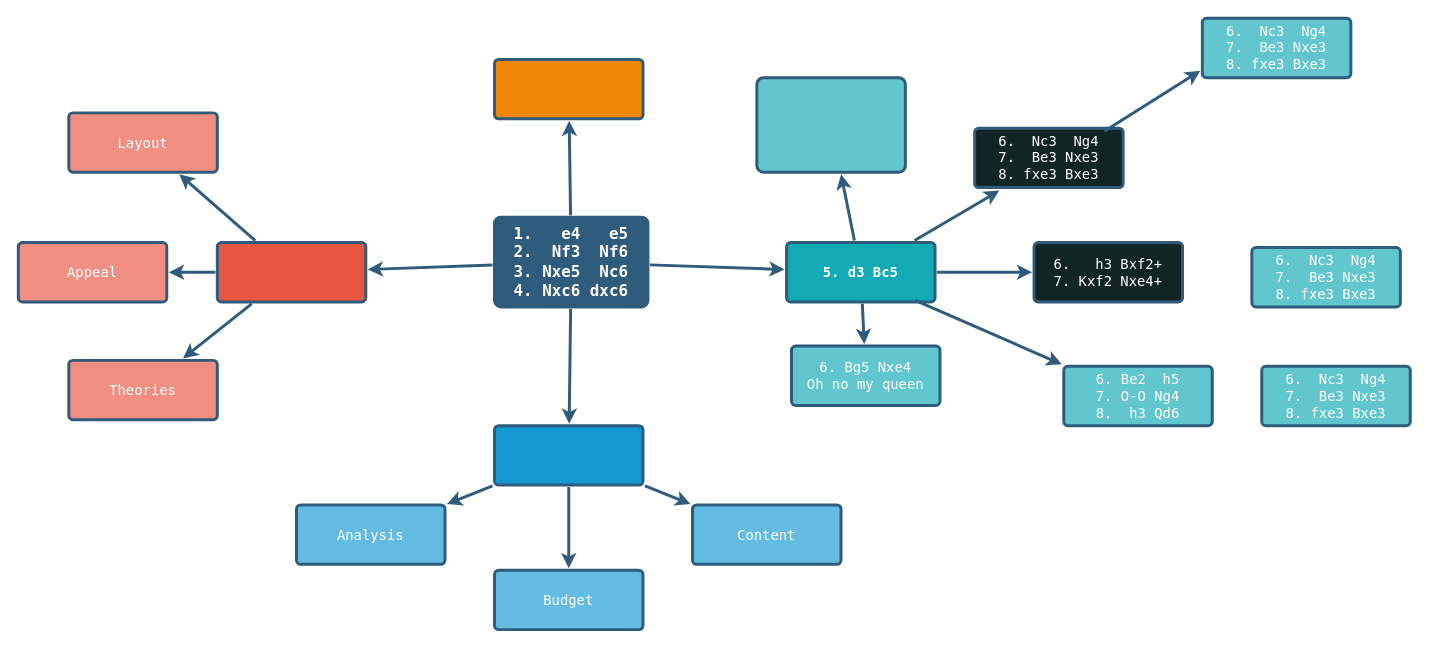
The diagram is 1429 pixels wide and 648 high, and some of its shapes have lost their labels. Here are the shapes that lost their labels. From the top down, the centre of each, then its label:
At pixel 568 88: "5. Qf3 Qe7 6. d3 Rg8 7. Be2".
At pixel 830 124: "6. Be3 Bxe3 7. fxe3 Ng4 8. Qf3 Qg5 9. Qf4 Qc5 10. Kd2".
At pixel 291 272: "Embassy".
At pixel 568 455: "Organization".
